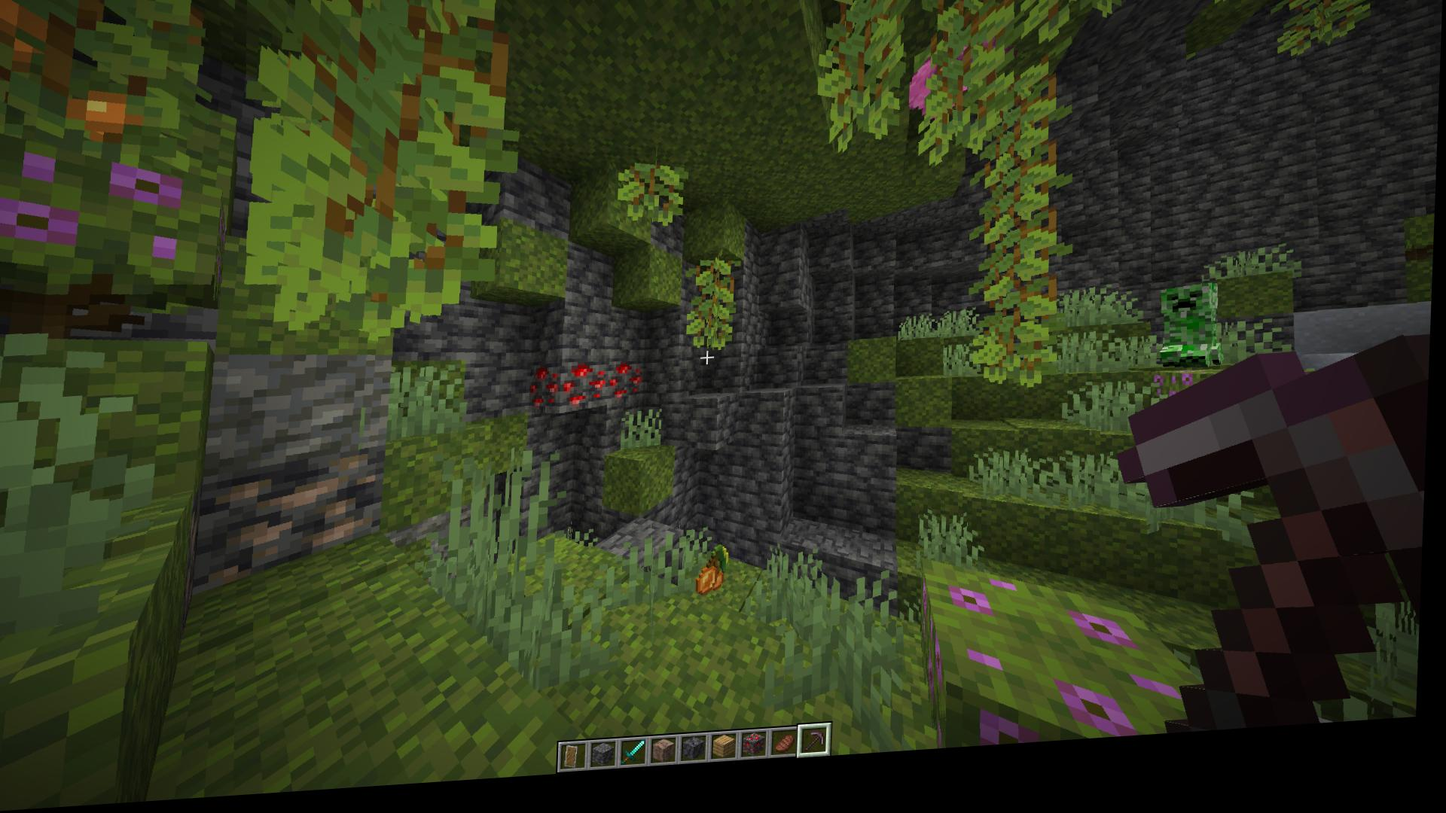iron ore: (200, 452, 388, 575)
redstone ore: (568, 370, 611, 415), (611, 366, 650, 410), (535, 373, 567, 419)
